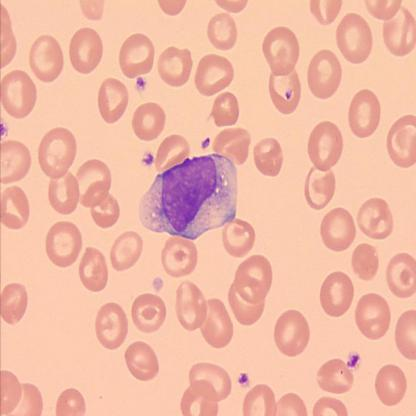Monocyte: (138, 152, 239, 242)
